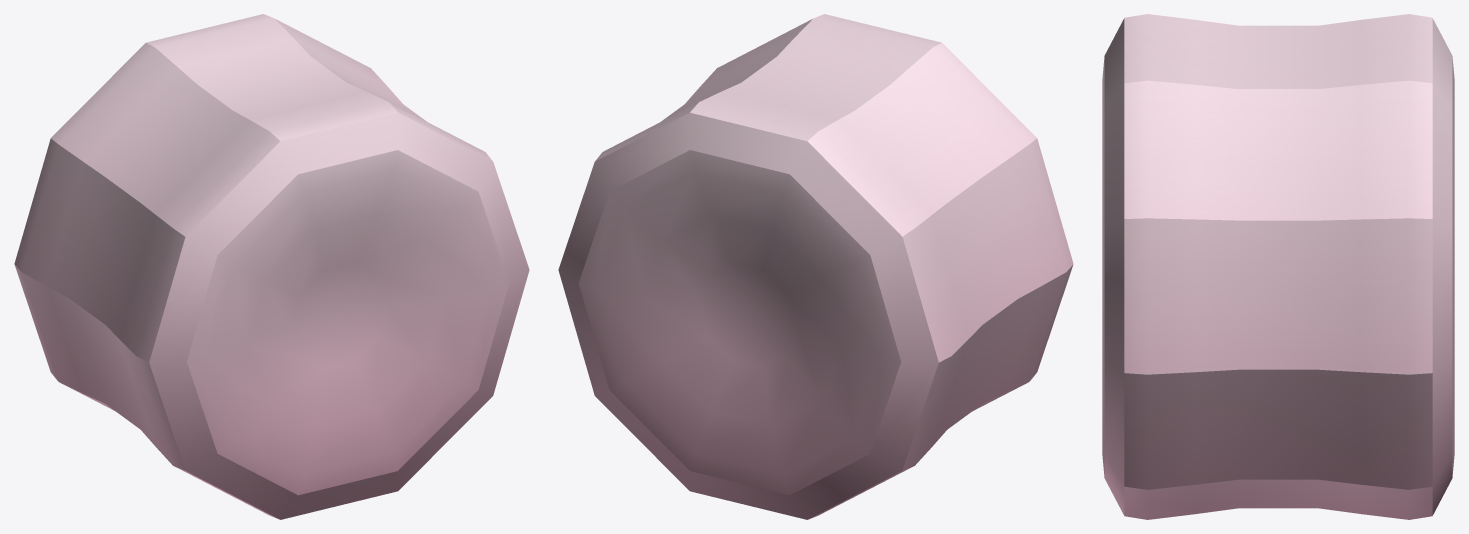
File: HPart_MallowPink_Whole.fbx
3 views of the same model, side by side, from view 1: azimuth 30°, elevation 25°; view 2: azimuth 150°, elevation 25°; view 3: azimuth 270°, elevation 25° (orthographic). The views are drawn at different scales.
Visible parts, largest first — view 1: mallow2; view 2: mallow2; view 3: mallow2.
Part boxes in pixels (box(x1,y1,x2,y2)): mallow2: box(14, 14, 529, 519); mallow2: box(558, 14, 1073, 519); mallow2: box(1102, 14, 1454, 519).
Size of the model in its own units: 0.5883 by 0.5595 by 0.4069.
